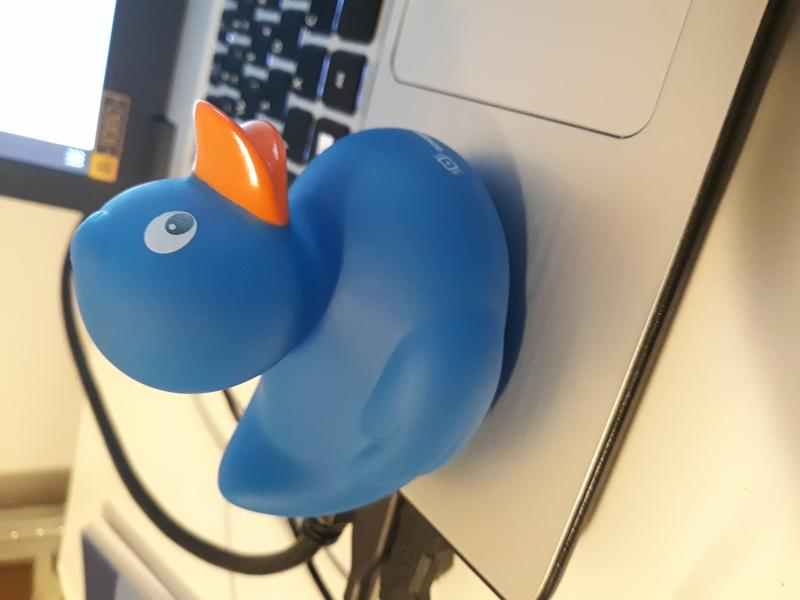plava_patkica: (34, 94, 538, 525)
